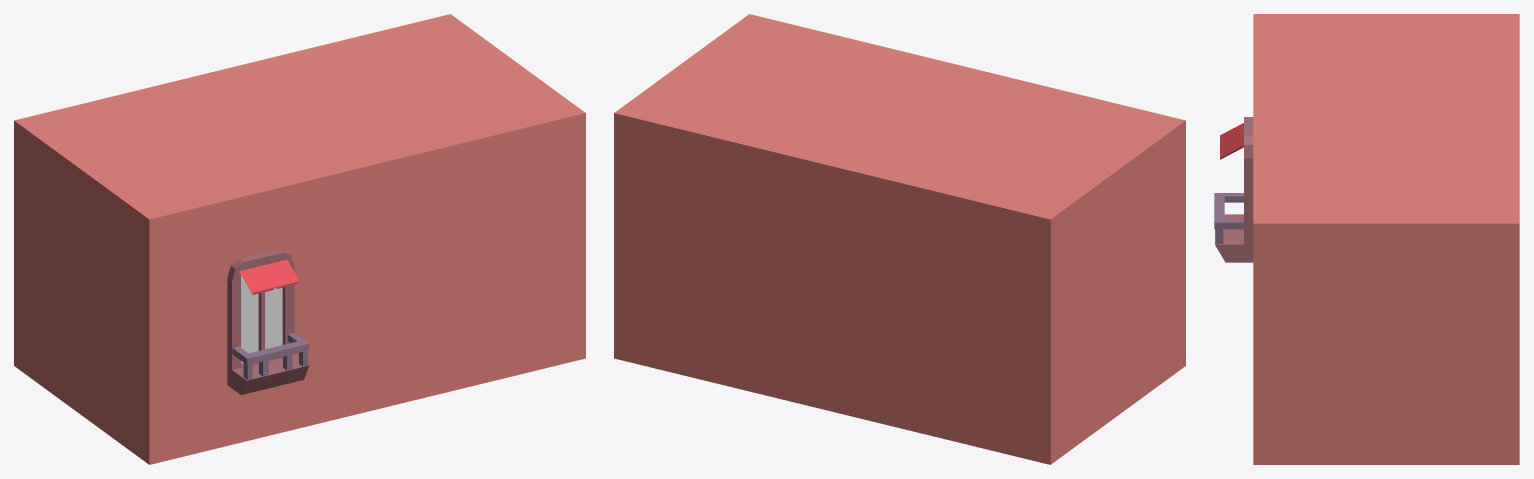
Rendered from HouseBlockLittleWindows.fbx.
3 renders of one model, left to right at view 1: azimuth 30°, elevation 25°; view 2: azimuth 150°, elevation 25°; view 3: azimuth 270°, elevation 25°, orthographic.
Parts seen in each view (by area): view 1: HouseBlockLittleWindows; view 2: HouseBlockLittleWindows; view 3: HouseBlockLittleWindows.
Boxes of the visible parts, x1,y1,x2,y2 form: HouseBlockLittleWindows: (14,14,585,464); HouseBlockLittleWindows: (614,14,1185,464); HouseBlockLittleWindows: (1214,14,1519,464).
Size of the model in its own units: 1835 by 986 by 1130.
